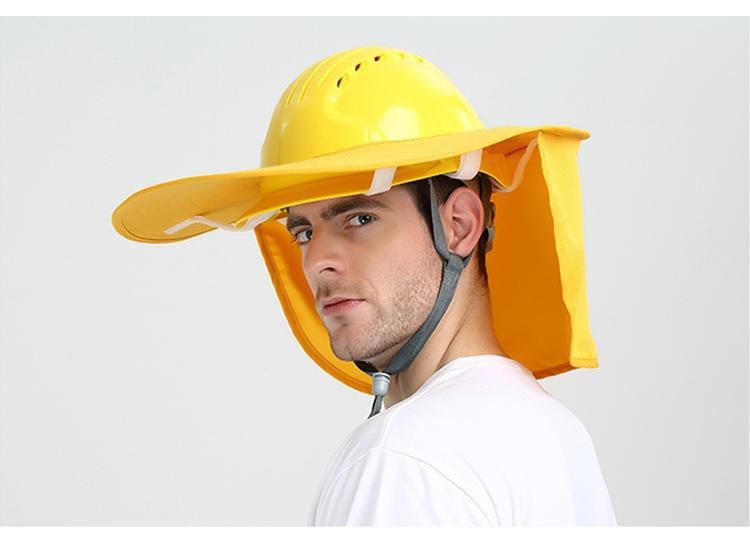helmet: (251, 45, 496, 205)
